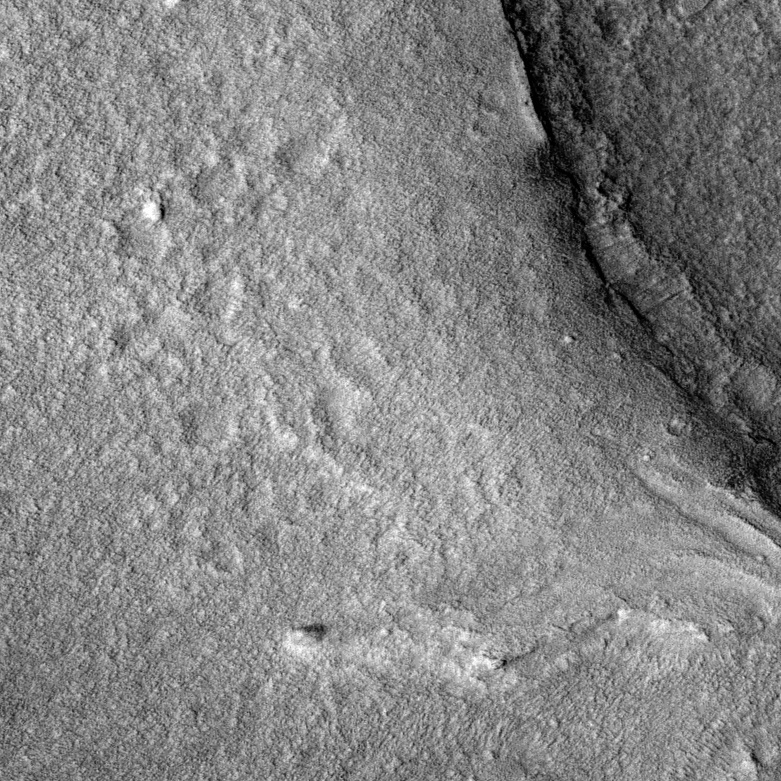dust_devil: (281, 622, 330, 654)
